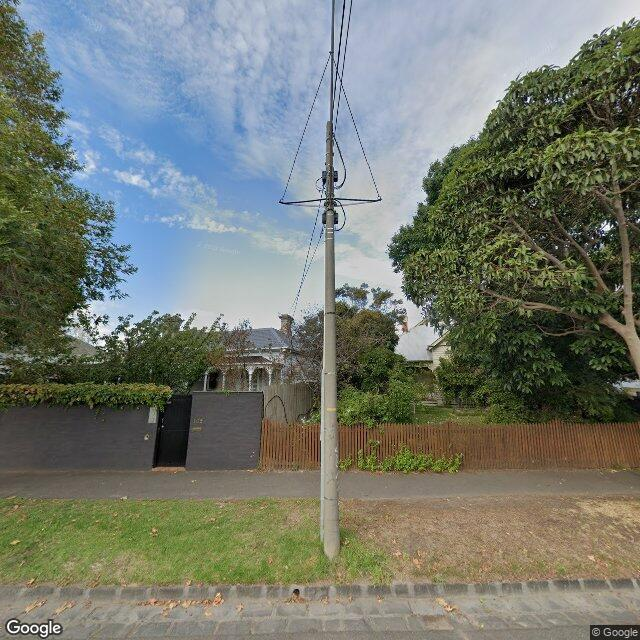timber-pole: (319, 121, 342, 559)
